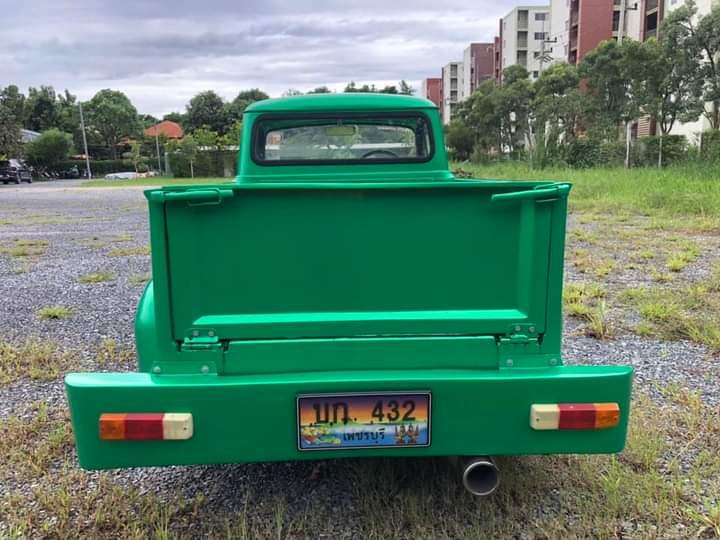license-plate: (295, 392, 432, 451)
